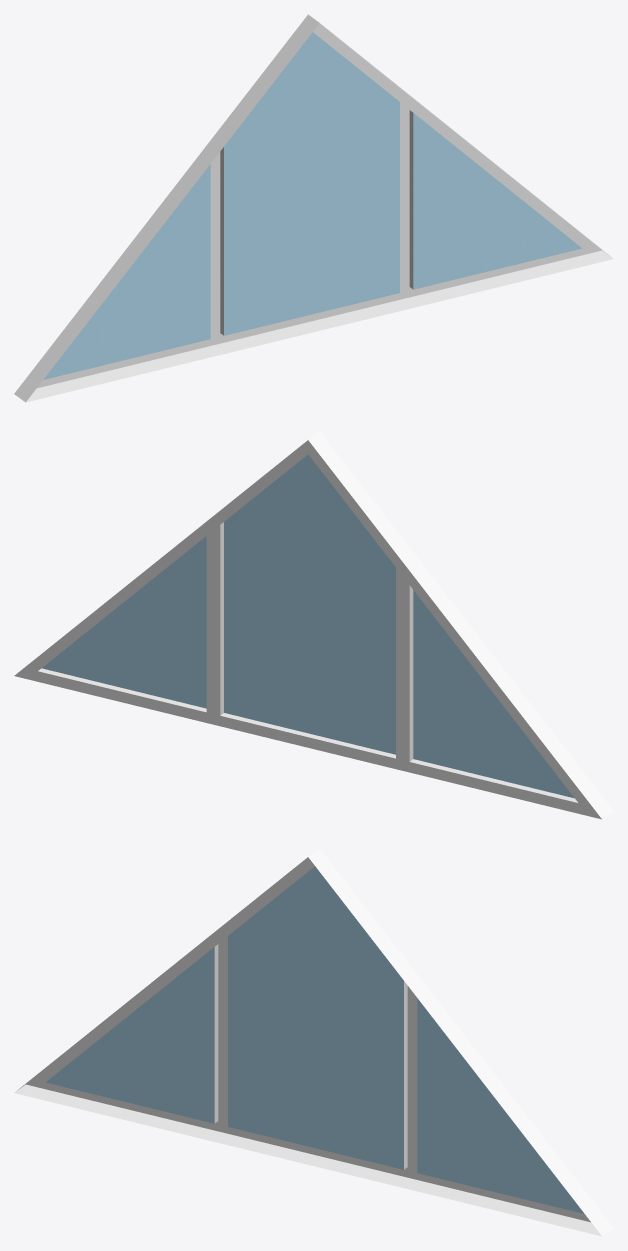
File: ThreeRoofFrontWindow.fbx
3 renders of one model, top to bottom at view 1: azimuth 30°, elevation 25°; view 2: azimuth 150°, elevation 25°; view 3: azimuth 330°, elevation 25°, orthographic.
Visible parts, largest first — view 1: ThreeRoofFrontWindow_LOD0; view 2: ThreeRoofFrontWindow_LOD0; view 3: ThreeRoofFrontWindow_LOD0.
Boxes of the visible parts, <box> form: ThreeRoofFrontWindow_LOD0: <box>14,14,613,402</box>; ThreeRoofFrontWindow_LOD0: <box>14,431,613,819</box>; ThreeRoofFrontWindow_LOD0: <box>14,848,613,1236</box>.
Size of what is drawn, in the model's own units: 870 by 435 by 30.
